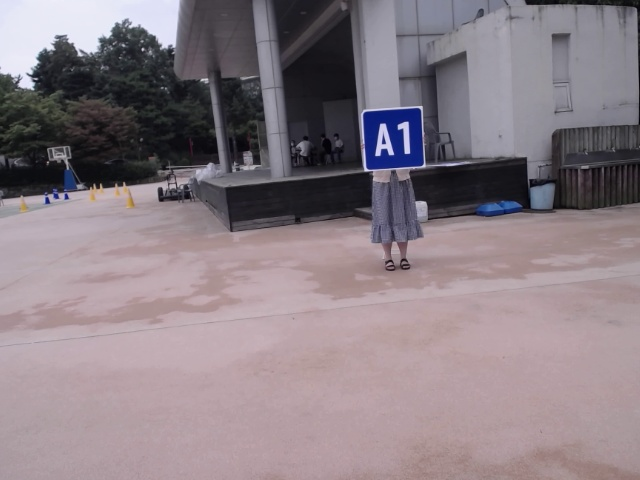delivery_a1: (362, 106, 425, 171)
